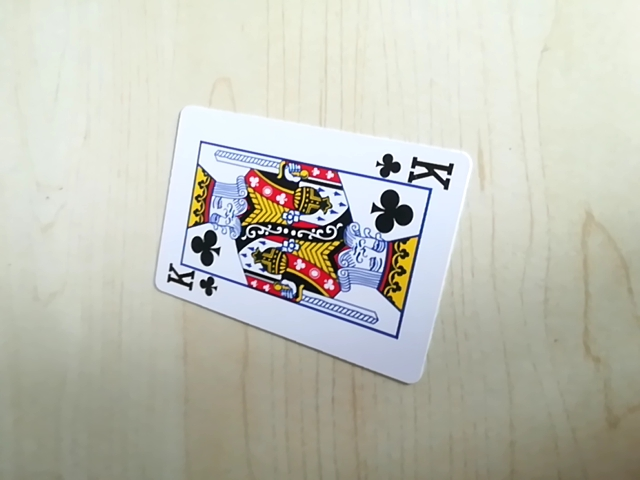mh k: (372, 149, 457, 187), (161, 266, 220, 297)
